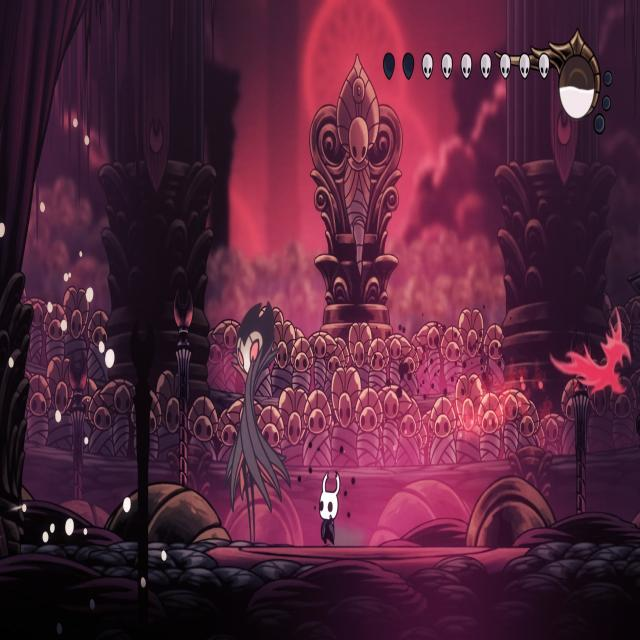Fire Bat: (545, 292, 629, 401)
Grimm: (221, 305, 293, 540)
Player: (314, 464, 341, 546)
